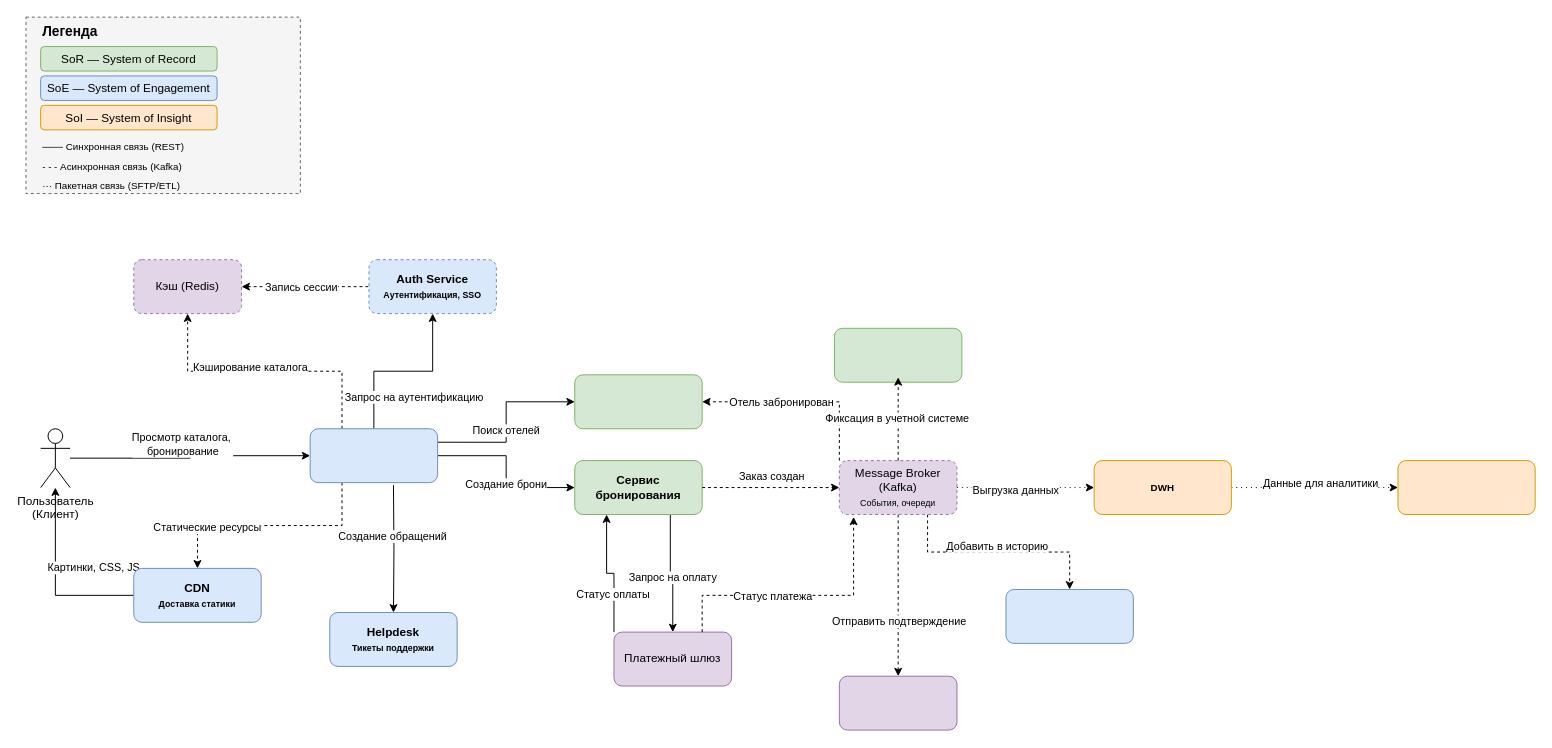
The diagram is 1552 pixels wide and 748 high, and some of its shapes have lost their labels. Each missing label, with the centre of its shape:
"BI-платформа" goes at (1466,487).
"CRM" goes at (1069,615).
"Email Service Транзакционные письма, рассылки" goes at (897,702).
"Витрина CMS" goes at (373,455).
"Сервис отелей" goes at (638,401).
"Сервис финансовой отчетности" goes at (897,354).
